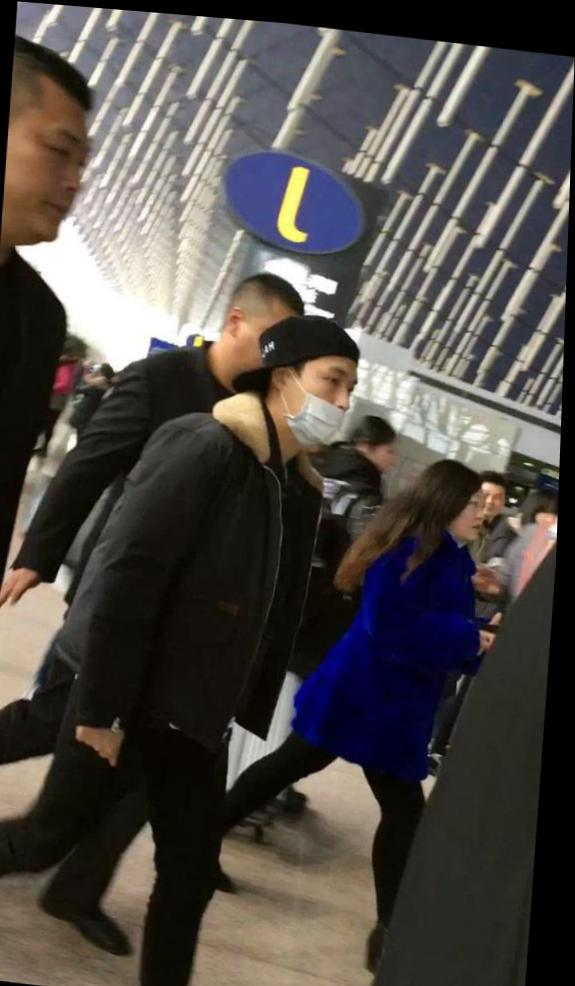NONE: (2, 110, 95, 253), (448, 478, 490, 538)
WRONG: (272, 346, 365, 447)
